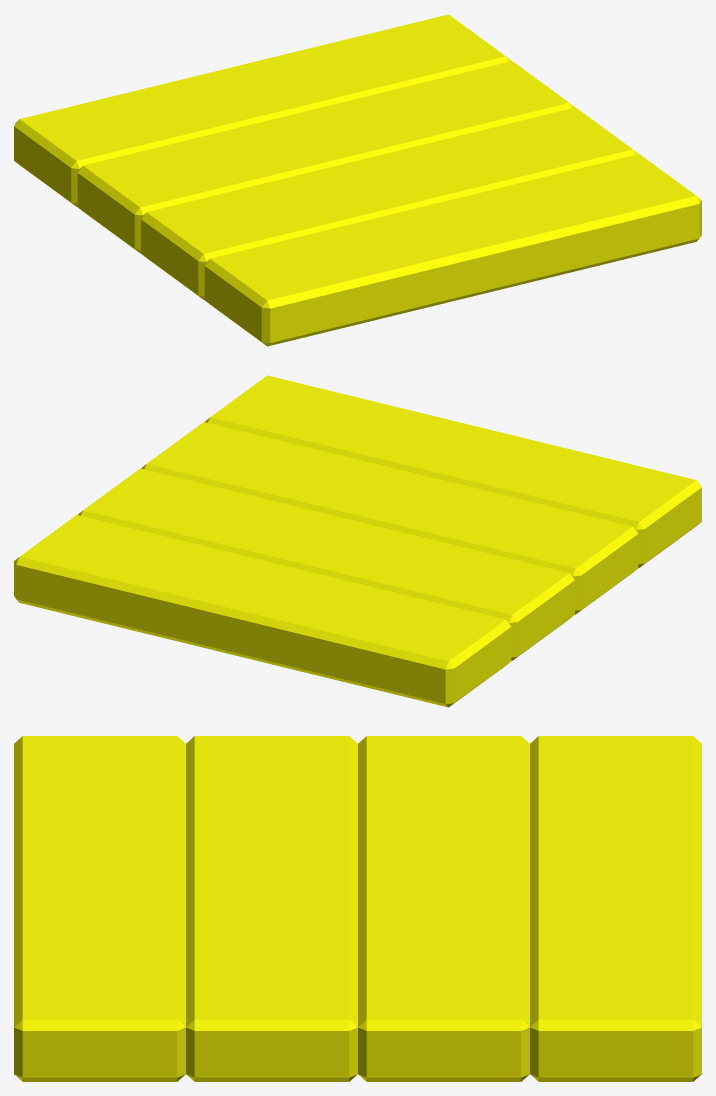
The model's file is crate_lid.gltf.
The picture shows the model from 3 angles, top to bottom: view 1: azimuth 30°, elevation 25°; view 2: azimuth 150°, elevation 25°; view 3: azimuth 270°, elevation 25°; orthographic projection. The views are drawn at different scales.
Visible parts, largest first — view 1: crate_lid; view 2: crate_lid; view 3: crate_lid.
Part boxes in pixels (x1,y1,x2,y2): crate_lid: (14, 14, 701, 346); crate_lid: (14, 375, 701, 707); crate_lid: (14, 736, 701, 1081).
Size of the model in its own units: 2 by 0.2 by 2.
Materials: 1 (1 with a texture image).
